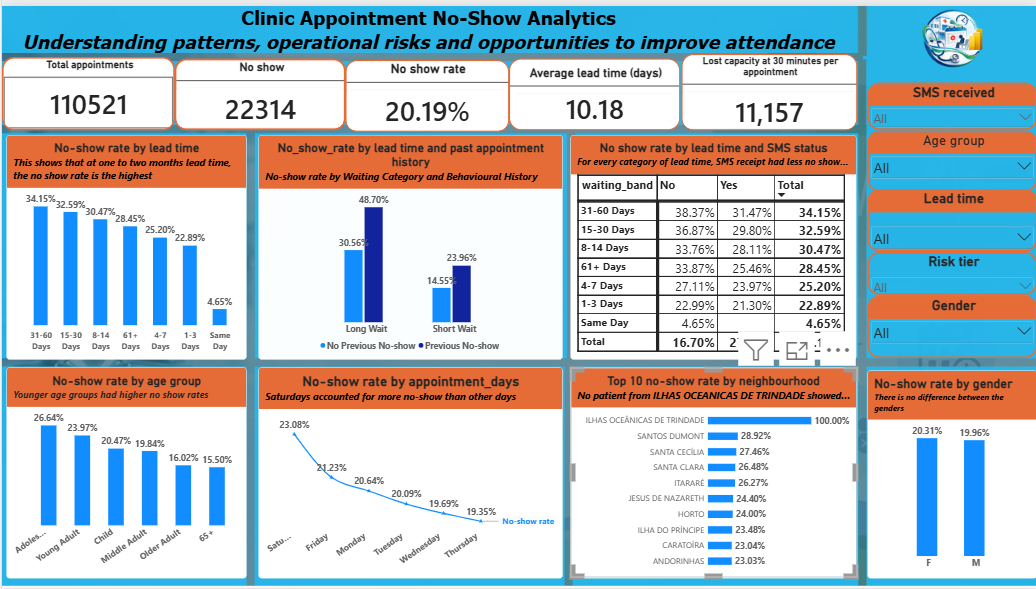

The dashboard page shown, as its layout file describes it:
{"tool":"powerbi","page":{"name":"Page 1","canvas":[2560,1440],"ordinal":0},"visuals":[{"type":"textbox","box":[0,0,2109,117.2],"z":0},{"type":"cardVisual","title":"Total appointments","fields":{"Data":["CountNonNull(appointment_risks.appointmentid)"]},"box":[0,124.7,427.1,181.4],"z":1},{"type":"cardVisual","title":"No show rate","fields":{"Data":["No_show_clean.No-show rate"]},"box":[850.4,132.3,404.4,177.6],"z":2},{"type":"cardVisual","title":"Average lead time (days)","fields":{"Data":["Avg(No_show_clean.waiting_days)"]},"box":[1254.8,128.5,423.3,177.6],"z":5},{"type":"clusteredColumnChart","title":"No-show rate by lead time","fields":{"Category":["No_show_clean.waiting_band"],"Y":["No_show_clean.No-show rate"]},"box":[11.3,317.5,593.4,555.6],"z":7},{"type":"clusteredColumnChart","title":"No_show_rate by lead time and past appointment history","fields":{"Category":["No_show_clean.Waiting Category"],"Series":["No_show_clean.Behavioural History"],"Y":["No_show_clean.No-show rate"]},"box":[635,317.5,752.1,555.6],"z":8},{"type":"pivotTable","title":"No show rate by lead time and SMS status","fields":{"Columns":["No_show_clean.sms_received"],"Rows":["No_show_clean.waiting_band"],"Values":["No_show_clean.No-show rate"]},"box":[1406,317.5,706.8,555.6],"z":9},{"type":"clusteredColumnChart","title":"No-show rate by gender","fields":{"Category":["No_show_clean.gender"],"Y":["No_show_clean.No-show rate"]},"box":[2139.2,899.5,419.5,514],"z":10},{"type":"clusteredBarChart","title":"Top 10 no-show rate by neighbourhood","fields":{"Category":["No_show_clean.neighbourhood"],"Y":["No_show_clean.No-show rate"]},"box":[1406,892,706.8,521.6],"z":11},{"type":"lineChart","title":"No-show rate by appointment_days","fields":{"Category":["No_show_clean.appointment_day"],"Y":["No_show_clean.No-show rate"]},"box":[635,892,752.1,521.6],"z":12},{"type":"clusteredColumnChart","title":"No-show rate by age group","fields":{"Category":["No_show_clean.age_group"],"Y":["No_show_clean.No-show rate"]},"box":[11.3,892,593.4,521.6],"z":13},{"type":"slicer","title":"SMS received","fields":{"Values":["No_show_clean.sms_received"]},"box":[2139.2,189,419.5,117.2],"z":14},{"type":"slicer","title":"Age group","fields":{"Values":["No_show_clean.age_group"]},"box":[2139.2,306.1,419.5,151.2],"z":15},{"type":"slicer","title":"Gender","fields":{"Values":["No_show_clean.gender"]},"box":[2139.2,714.3,419.5,155],"z":16},{"type":"slicer","title":"Lead time","fields":{"Values":["No_show_clean.waiting_band"]},"box":[2139.2,453.5,419.5,155],"z":17},{"type":"cardVisual","title":"Lost capacity at 30 minutes per appointment","fields":{"Data":["No_show_clean.Potential Lost Capacity Hours"]},"box":[1678.1,117.2,434.6,189],"z":18},{"type":"cardVisual","title":"No show","fields":{"Data":["No_show_clean.Missed appointment"]},"box":[427.1,128.5,423.3,177.6],"z":21},{"type":"slicer","title":"Risk tier","fields":{"Values":["appointment_risks.risk_tier"]},"box":[2139.2,608.5,419.5,105.8],"z":22},{"type":"textbox","box":[2139.2,0,419.5,189],"z":23},{"type":"image","box":[2139.2,0,419.5,158.7],"z":24}]}

Visuals, with their boxes in screenshot pixels (x1, y1, x2, y2), scaled from the page's 2560x1440 canvas onto the 1036x589 screenshot:
textbox: 0,0,853,48
"Total appointments" cardVisual: 0,51,173,125
"No show rate" cardVisual: 344,54,508,127
"Average lead time (days)" cardVisual: 508,53,679,125
"No-show rate by lead time" clusteredColumnChart: 5,130,245,357
"No_show_rate by lead time and past appointment history" clusteredColumnChart: 257,130,561,357
"No show rate by lead time and SMS status" pivotTable: 569,130,855,357
"No-show rate by gender" clusteredColumnChart: 866,368,1035,578
"Top 10 no-show rate by neighbourhood" clusteredBarChart: 569,365,855,578
"No-show rate by appointment_days" lineChart: 257,365,561,578
"No-show rate by age group" clusteredColumnChart: 5,365,245,578
"SMS received" slicer: 866,77,1035,125
"Age group" slicer: 866,125,1035,187
"Gender" slicer: 866,292,1035,356
"Lead time" slicer: 866,185,1035,249
"Lost capacity at 30 minutes per appointment" cardVisual: 679,48,855,125
"No show" cardVisual: 173,53,344,125
"Risk tier" slicer: 866,249,1035,292
textbox: 866,0,1035,77
image: 866,0,1035,65
